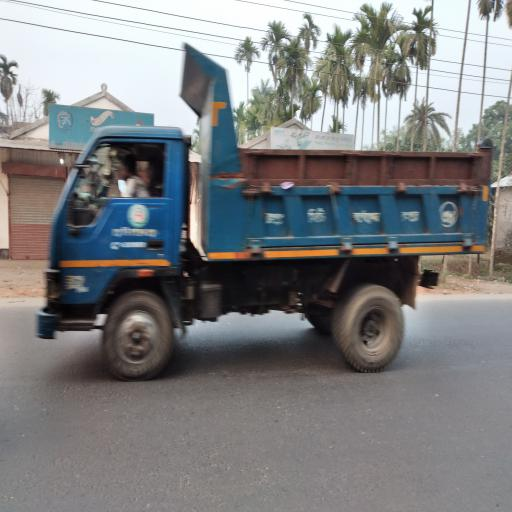pickup: (38, 38, 493, 397)
